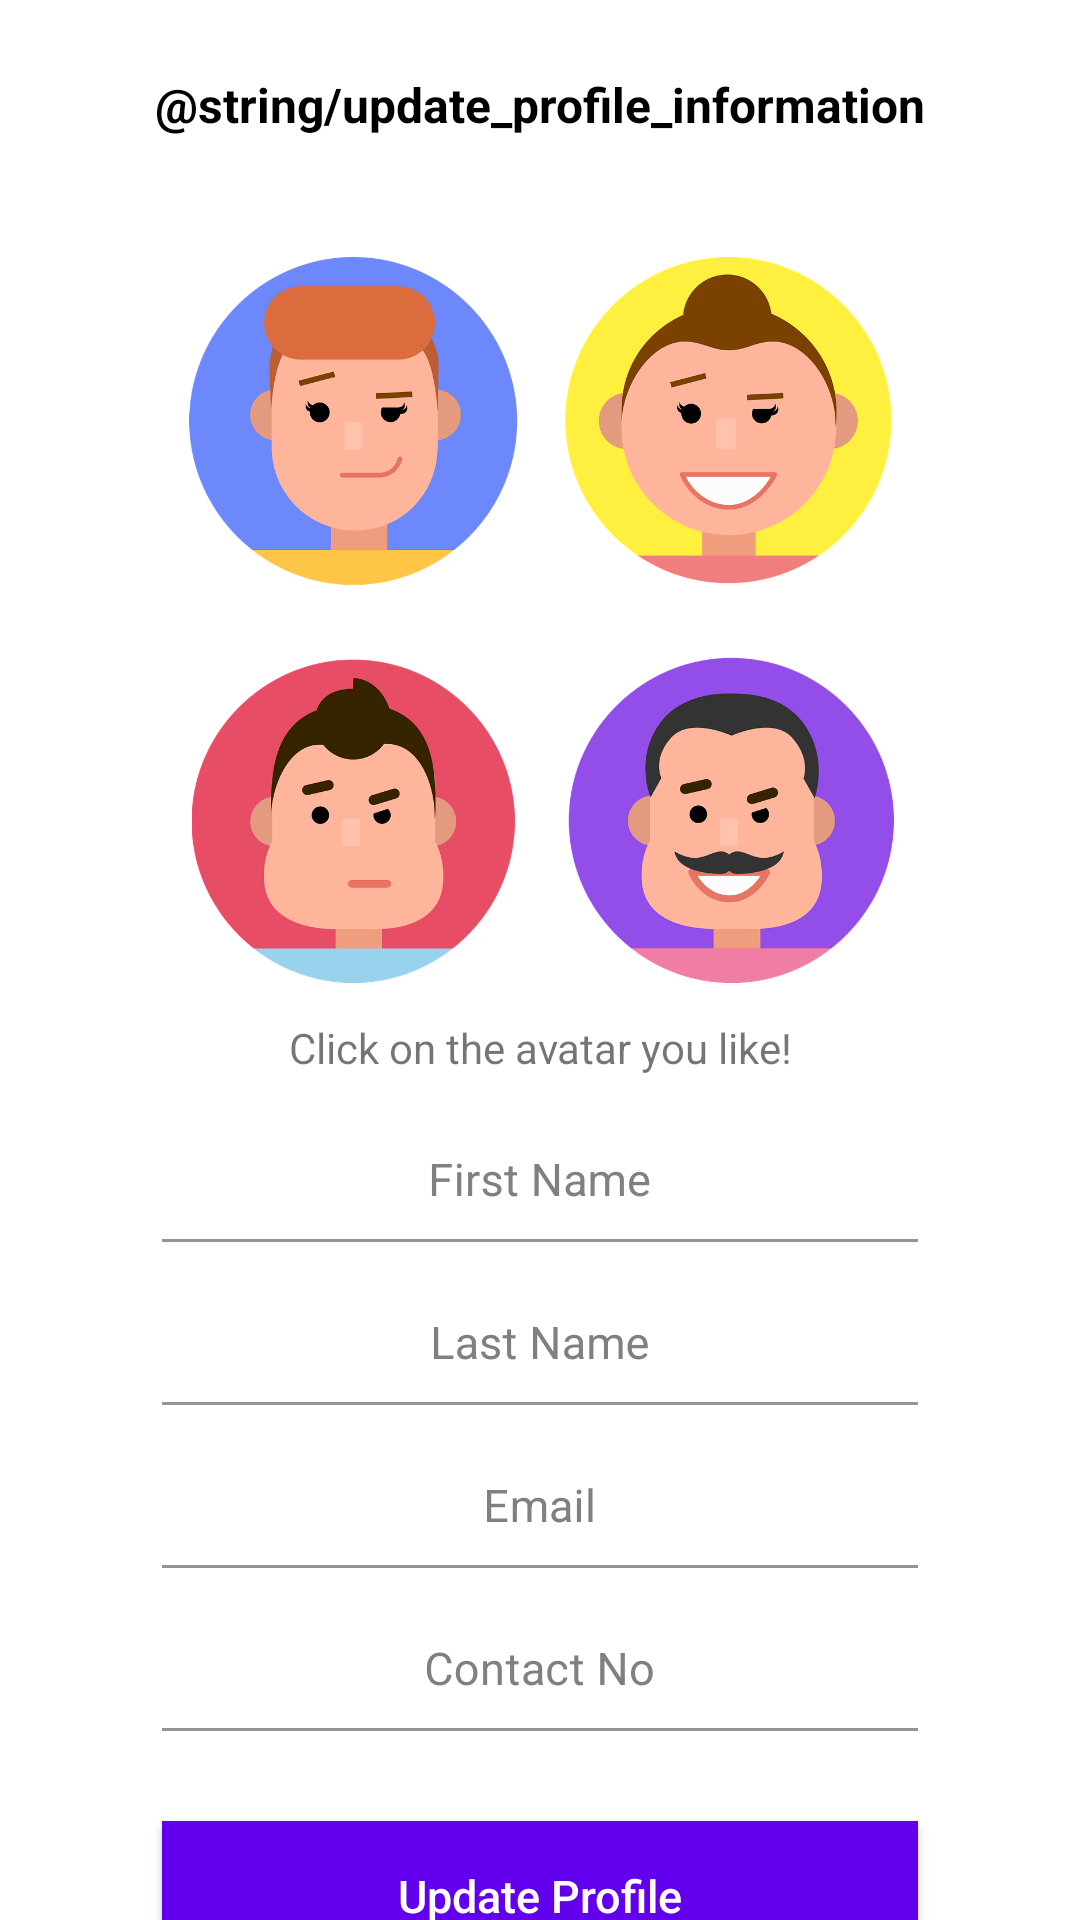

Icon bounding boxes for this 1080w x 1920h phone screenshot, format (x1, y1, x2, y2):
avatars: (189, 257, 518, 585), (565, 257, 891, 584), (568, 657, 894, 983), (192, 659, 515, 983)
